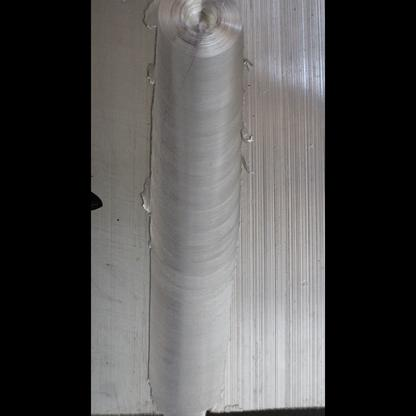cross-section reduction defect: (138, 298, 235, 412)
flash: (236, 123, 260, 175), (137, 174, 153, 219), (145, 61, 159, 83), (243, 58, 253, 71)
keyhole: (153, 1, 248, 57)
